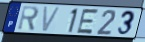1: (67, 8, 80, 34)
2: (96, 9, 118, 37)
3: (116, 10, 138, 37)
E: (74, 8, 100, 36)
R: (16, 5, 40, 32)
V: (41, 5, 63, 33)
